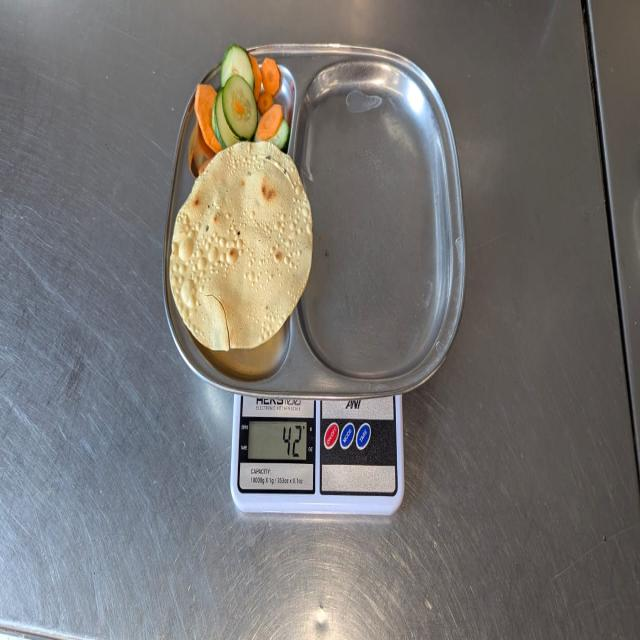Papad: (170, 143, 314, 350)
Salad: (190, 43, 294, 153)
